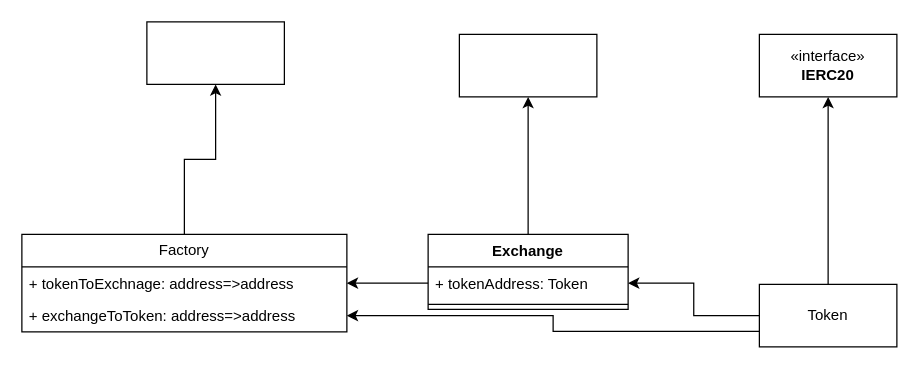
This 919x369 diagram has some shape labels left out. Here are the shapes that lost their labels. From the top down, the centre of each, then its label:
At (x=215, y=52): "«interface» IFactory".
At (x=527, y=65): "«interface» IExchnage".
